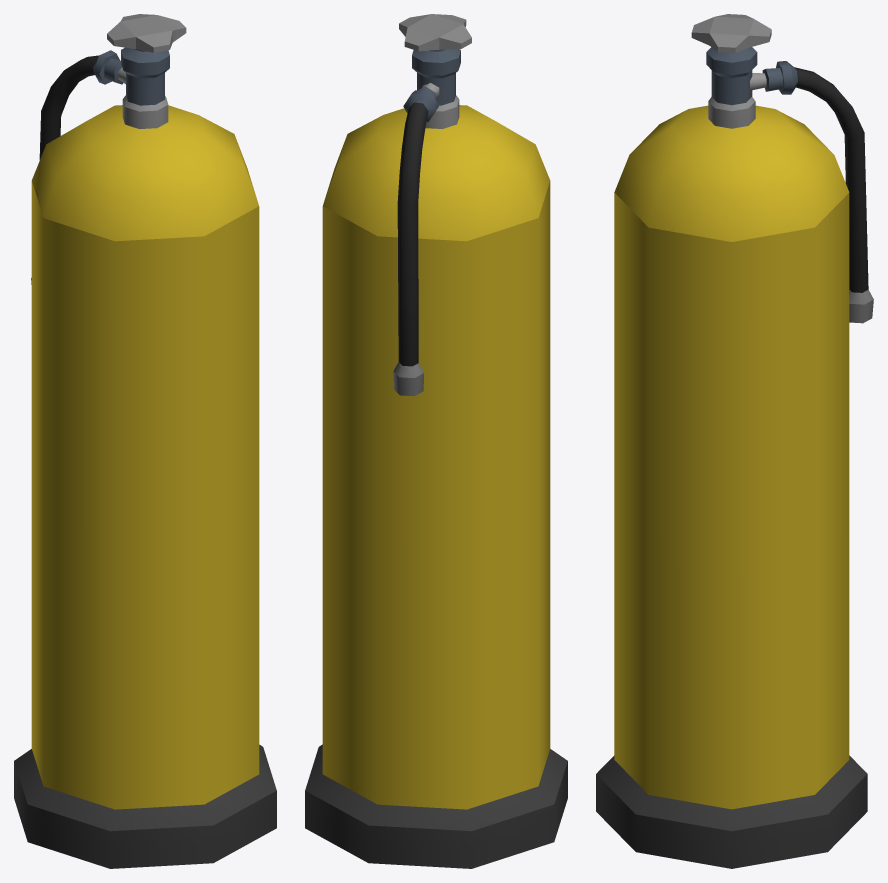
Rendered from GasCylinder_1_7.fbx.
3 renders of one model, left to right at view 1: azimuth 30°, elevation 25°; view 2: azimuth 150°, elevation 25°; view 3: azimuth 270°, elevation 25°, orthographic.
Visible parts, largest first — view 1: GasCylinder_1_7; view 2: GasCylinder_1_7; view 3: GasCylinder_1_7.
Boxes of the visible parts, box(x1,y1,x2,y2) form: GasCylinder_1_7: box(14, 14, 276, 868); GasCylinder_1_7: box(305, 14, 567, 868); GasCylinder_1_7: box(596, 14, 873, 868).
Bounding box in the file's own units: 27.47 × 87.73 × 28.1.
